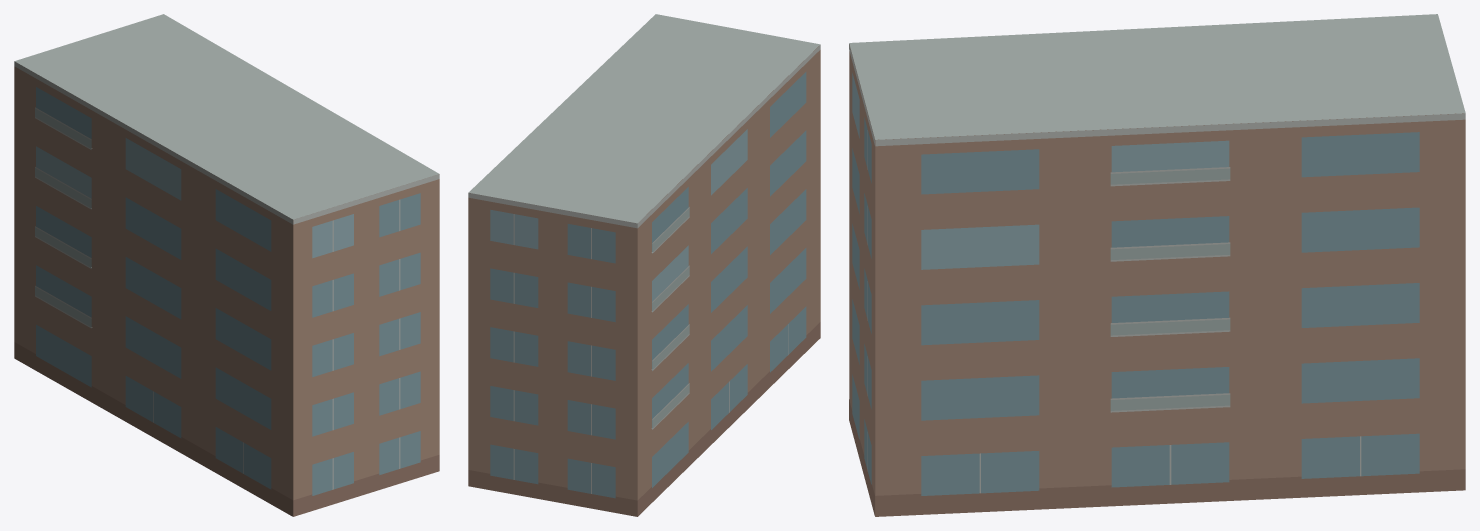
File: survey-upis-32961980.glb
3 views of the same model, side by side, from view 1: azimuth 30°, elevation 25°; view 2: azimuth 150°, elevation 25°; view 3: azimuth 270°, elevation 25° (orthographic). The views are drawn at different scales.
Visible parts, largest first — view 1: survey-upis-32961980.tmp; view 2: survey-upis-32961980.tmp; view 3: survey-upis-32961980.tmp.
Boxes of the visible parts, x1,y1,x2,y2 form: survey-upis-32961980.tmp: (14, 14, 439, 516); survey-upis-32961980.tmp: (468, 14, 820, 516); survey-upis-32961980.tmp: (849, 14, 1465, 516).
Size of the model in its own units: 10.32 by 14.4 by 21.36.
